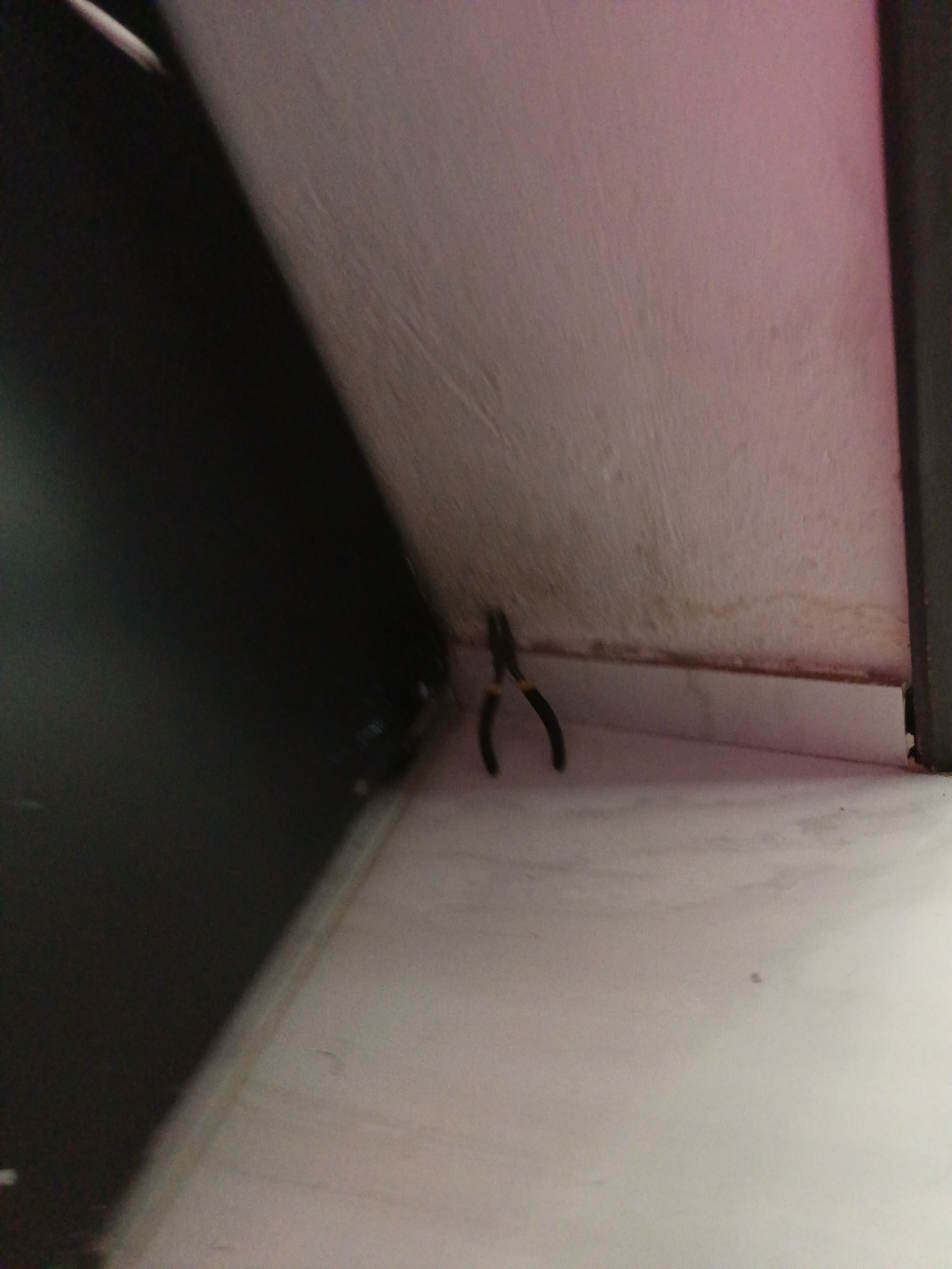Pinzas: (477, 598, 567, 776)
